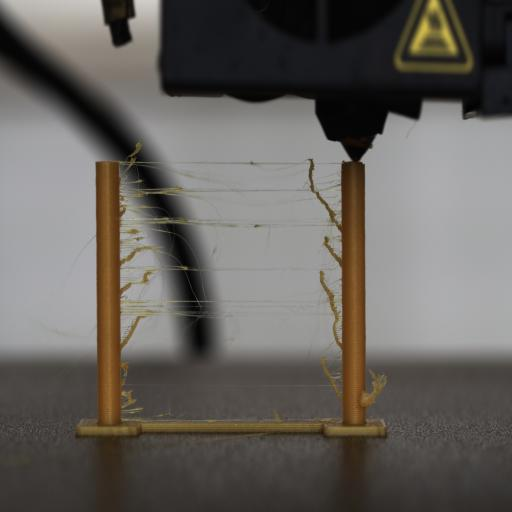stringing: (117, 155, 343, 318)
